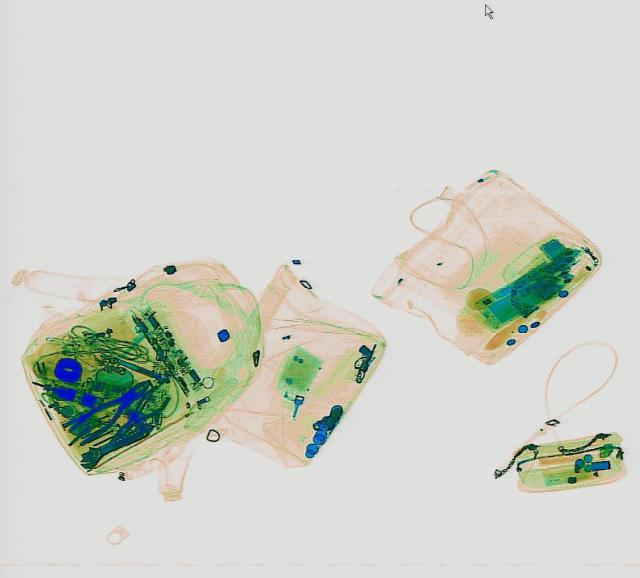Pliers: (60, 369, 160, 446), (99, 377, 177, 446)
Wrench: (74, 419, 158, 468)
